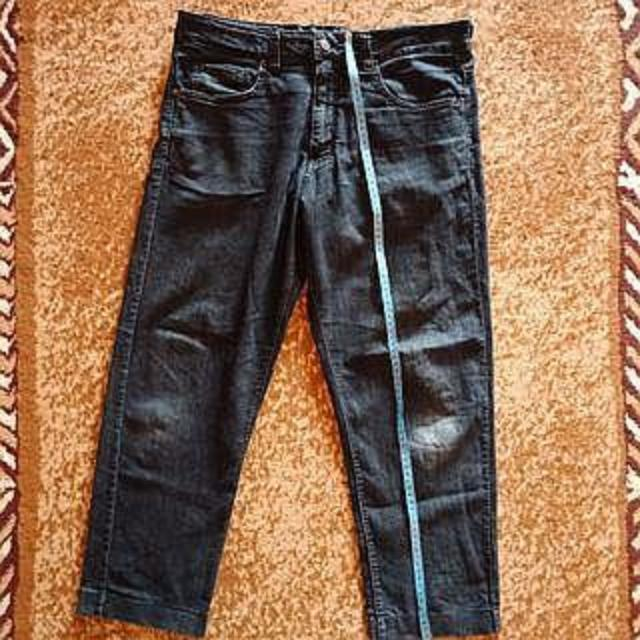TROUSER: (54, 10, 516, 640)
